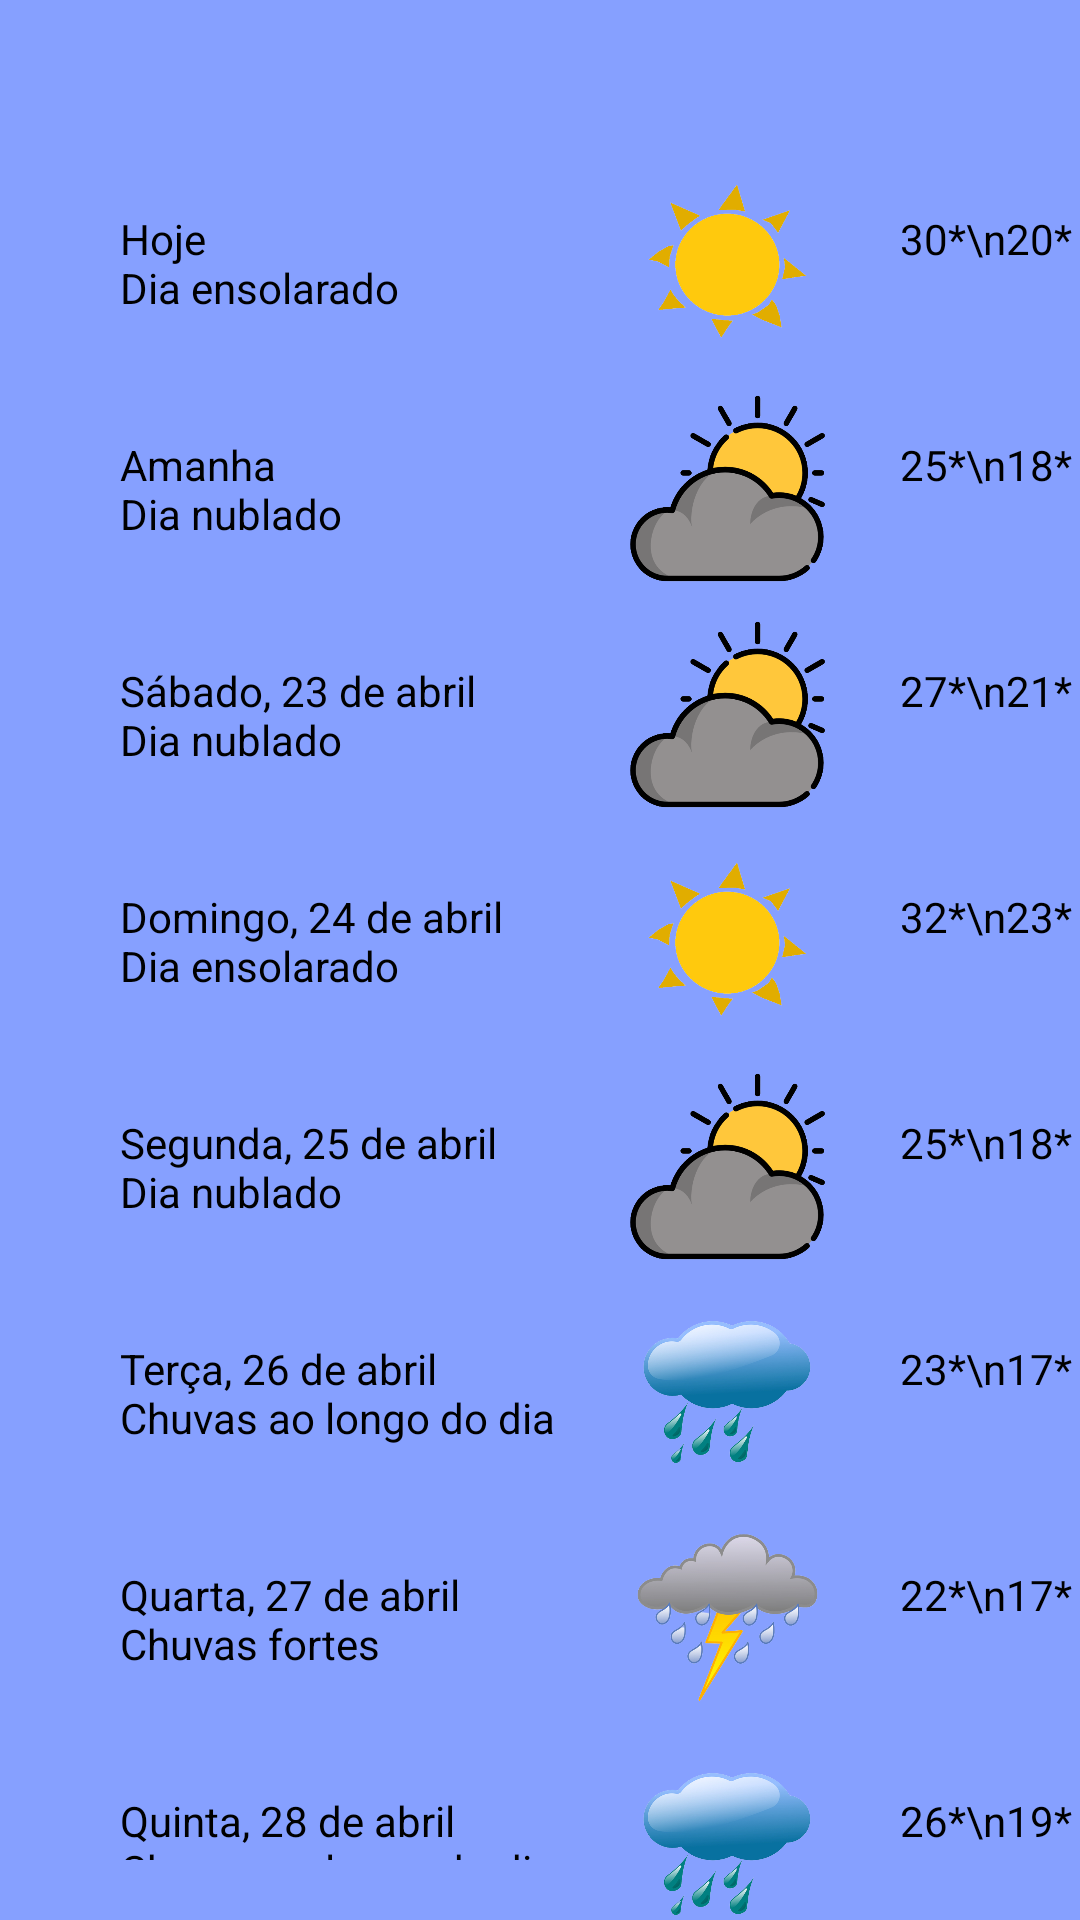

Where icons sit on this 1080×1920 app screen, as region(x1, y1, x2, y2):
sol: region(649, 185, 806, 337), region(649, 863, 806, 1015)
tempestade: region(638, 1534, 817, 1701)
